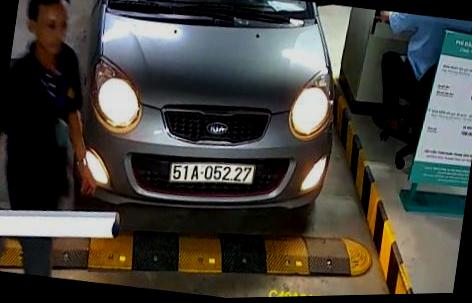License_Plate: (171, 156, 256, 187)
